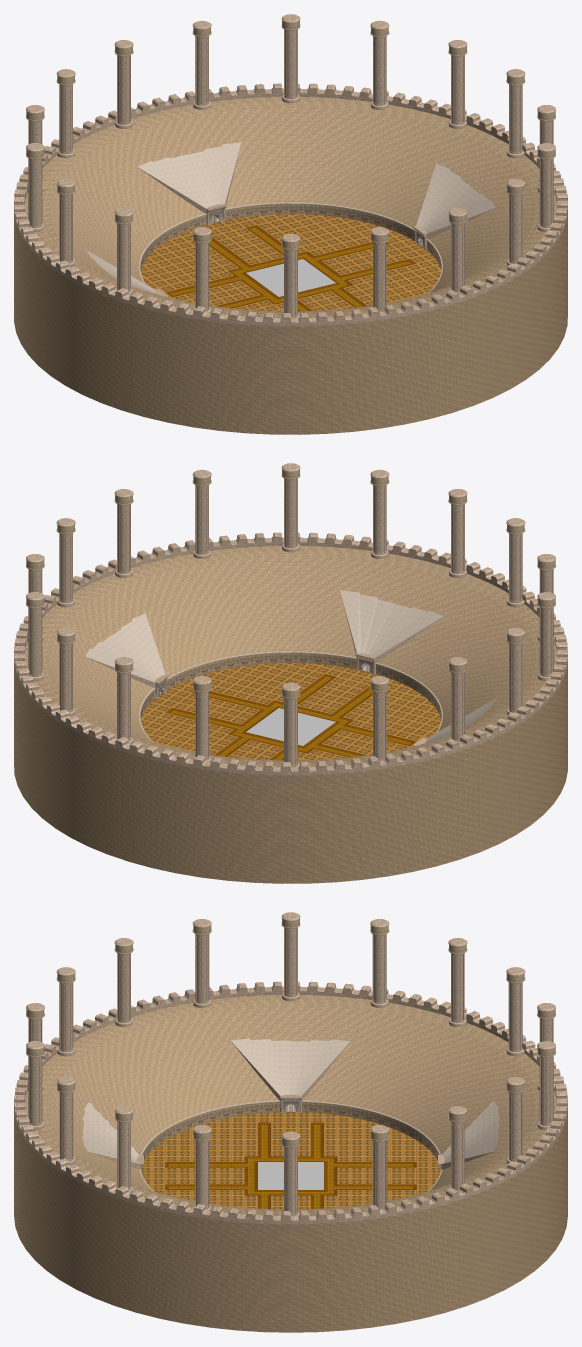
The model's file is circle_of_death.gltf.
3 views of the same model, one above another, from view 1: azimuth 30°, elevation 25°; view 2: azimuth 150°, elevation 25°; view 3: azimuth 270°, elevation 25° (orthographic).
Visible parts, largest first — view 1: Object008_walls_0, Object008_collumn bricks_0, Object008_floor main_0, Object008_collumn simbols_0, Object008_door frame2_0, Object008_main walls_0, Object008_sink wall_0, Object008_sink floor_0, Object008_collumn ornament_0, Object008_logo_0; view 2: Object008_walls_0, Object008_collumn bricks_0, Object008_floor main_0, Object008_collumn simbols_0, Object008_door frame2_0, Object008_main walls_0, Object008_sink wall_0, Object008_sink floor_0, Object008_collumn ornament_0, Object008_logo_0; view 3: Object008_walls_0, Object008_collumn bricks_0, Object008_floor main_0, Object008_collumn simbols_0, Object008_door frame2_0, Object008_main walls_0, Object008_sink wall_0, Object008_sink floor_0, Object008_collumn ornament_0, Object008_logo_0.
Boxes of the visible parts, x1=… form: Object008_walls_0: x1=14, y1=96, x2=567, y2=434; Object008_collumn bricks_0: x1=14, y1=14, x2=567, y2=326; Object008_floor main_0: x1=140, y1=214, x2=441, y2=311; Object008_collumn simbols_0: x1=29, y1=30, x2=552, y2=316; Object008_door frame2_0: x1=83, y1=139, x2=498, y2=294; Object008_main walls_0: x1=140, y1=204, x2=441, y2=269; Object008_sink wall_0: x1=166, y1=225, x2=415, y2=311; Object008_sink floor_0: x1=170, y1=227, x2=411, y2=311; Object008_collumn ornament_0: x1=26, y1=21, x2=555, y2=248; Object008_logo_0: x1=246, y1=259, x2=335, y2=296; Object008_walls_0: x1=14, y1=545, x2=567, y2=883; Object008_collumn bricks_0: x1=14, y1=463, x2=567, y2=775; Object008_floor main_0: x1=140, y1=663, x2=441, y2=760; Object008_collumn simbols_0: x1=29, y1=479, x2=552, y2=765; Object008_door frame2_0: x1=83, y1=588, x2=498, y2=743; Object008_main walls_0: x1=140, y1=653, x2=441, y2=718; Object008_sink wall_0: x1=166, y1=674, x2=415, y2=760; Object008_sink floor_0: x1=170, y1=676, x2=411, y2=760; Object008_collumn ornament_0: x1=26, y1=470, x2=555, y2=697; Object008_logo_0: x1=246, y1=708, x2=335, y2=745; Object008_walls_0: x1=14, y1=995, x2=567, y2=1332; Object008_collumn bricks_0: x1=14, y1=912, x2=567, y2=1224; Object008_floor main_0: x1=142, y1=1111, x2=439, y2=1209; Object008_collumn simbols_0: x1=29, y1=928, x2=552, y2=1214; Object008_door frame2_0: x1=82, y1=1038, x2=500, y2=1191; Object008_main walls_0: x1=142, y1=1102, x2=439, y2=1159; Object008_sink wall_0: x1=165, y1=1122, x2=416, y2=1208; Object008_sink floor_0: x1=168, y1=1125, x2=413, y2=1208; Object008_collumn ornament_0: x1=26, y1=919, x2=555, y2=1146; Object008_logo_0: x1=258, y1=1162, x2=323, y2=1189.
Bounding box in the file's own units: 14404 × 5461 × 14404.
